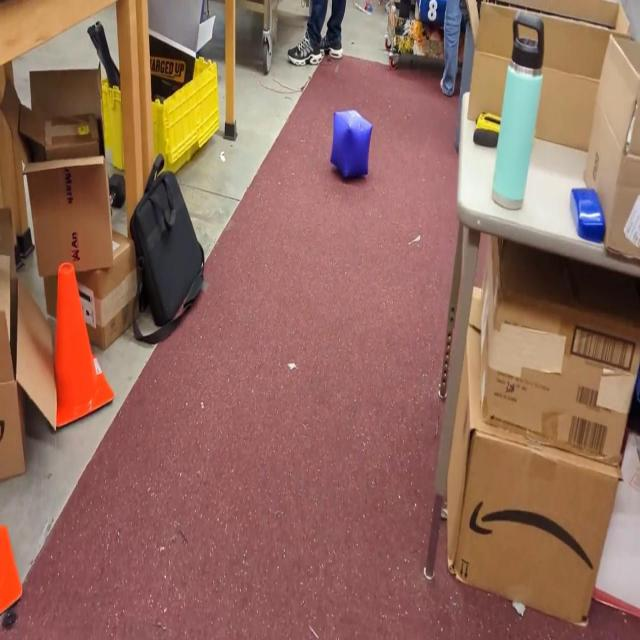frc_cube: (330, 105, 372, 181)
